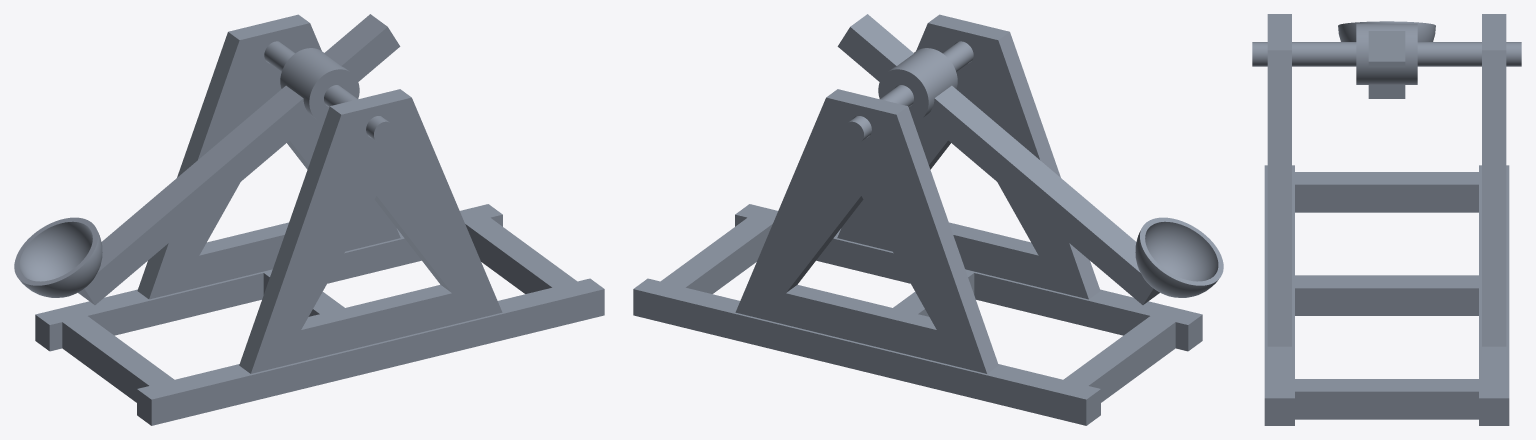
Rendered from step-4-preview-1.glb.
3 renders of one model, left to right at view 1: azimuth 30°, elevation 25°; view 2: azimuth 150°, elevation 25°; view 3: azimuth 270°, elevation 25°, orthographic. The views are drawn at different scales.
Parts seen in each view (by area): view 1: preview_17, preview_3, preview_10, preview_2, preview_53, preview_50, preview_23, preview_18, preview_59, preview_0, preview_28, preview_5 (+12 smaller); view 2: preview_29, preview_20, preview_11, preview_2, preview_51, preview_50, preview_22, preview_0, preview_59, preview_18, preview_25, preview_5 (+12 smaller); view 3: preview_2, preview_4, preview_19, preview_16, preview_21, preview_26, preview_40, preview_43, preview_54, preview_1, preview_35, preview_12 (+3 smaller).
Part boxes in pixels (x1,y1,x2,y2): preview_17: (251, 97, 502, 373); preview_3: (149, 23, 400, 299); preview_10: (151, 289, 604, 425); preview_2: (35, 204, 603, 399); preview_53: (84, 98, 314, 304); preview_50: (97, 85, 303, 272); preview_23: (88, 273, 263, 335); preview_18: (239, 106, 340, 373); preview_59: (19, 221, 92, 281); preview_0: (137, 32, 239, 298); preview_28: (327, 238, 421, 283); preview_5: (62, 322, 148, 402); preview_29: (735, 97, 986, 373); preview_20: (837, 23, 1088, 299); preview_11: (633, 289, 1086, 425); preview_2: (634, 204, 1202, 399); preview_51: (923, 98, 1153, 304); preview_50: (934, 85, 1140, 272); preview_22: (974, 273, 1149, 335); preview_0: (897, 106, 998, 373); preview_59: (1145, 221, 1218, 281); preview_18: (998, 32, 1100, 298); preview_25: (816, 238, 910, 283); preview_5: (1089, 322, 1175, 402); preview_2: (1264, 165, 1509, 398); preview_4: (1482, 50, 1506, 346); preview_19: (1267, 50, 1291, 346); preview_16: (1295, 391, 1478, 419); preview_21: (1295, 184, 1478, 212); preview_26: (1295, 288, 1478, 315); preview_40: (1252, 42, 1521, 66); preview_43: (1356, 23, 1417, 84); preview_54: (1368, 31, 1405, 61); preview_1: (1482, 14, 1506, 50); preview_35: (1267, 14, 1291, 50); preview_12: (1264, 398, 1294, 425).
Size of the model in its own units: 0.2086 by 0.1113 by 0.088.
